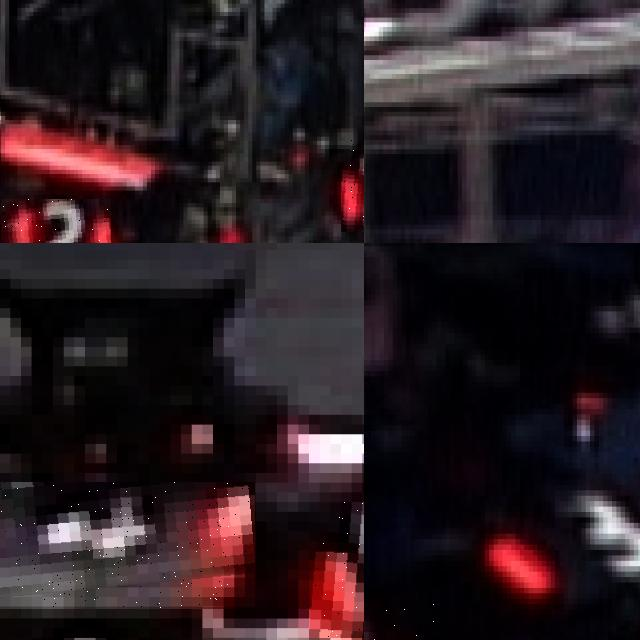R2: (1, 198, 110, 243), (341, 136, 364, 232)
R4: (0, 482, 255, 608), (309, 502, 364, 638)
